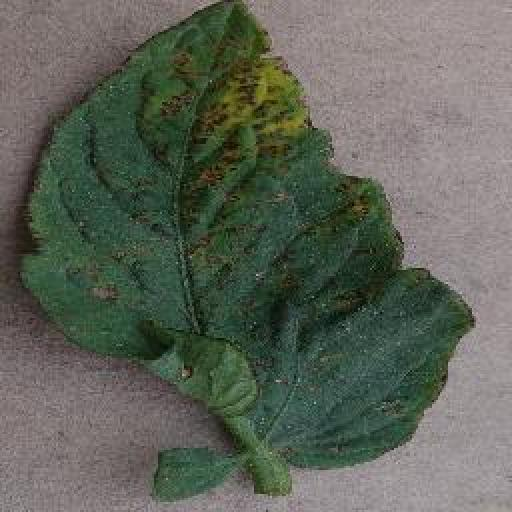Bacterial Spot: (16, 0, 482, 508)
